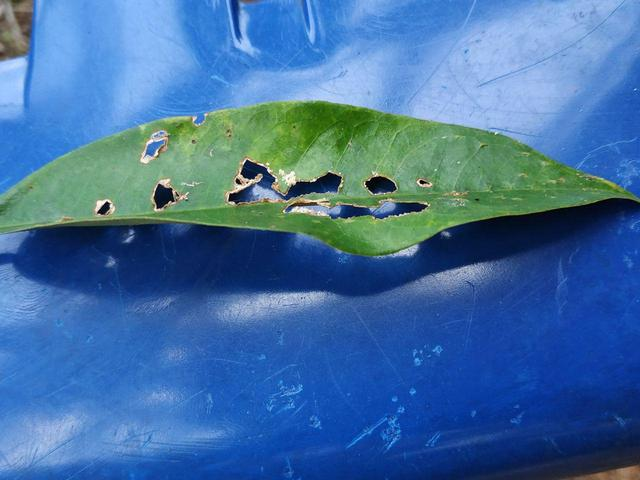blight spot: (223, 150, 465, 224), (143, 173, 192, 216), (137, 130, 180, 167), (87, 196, 118, 221)
